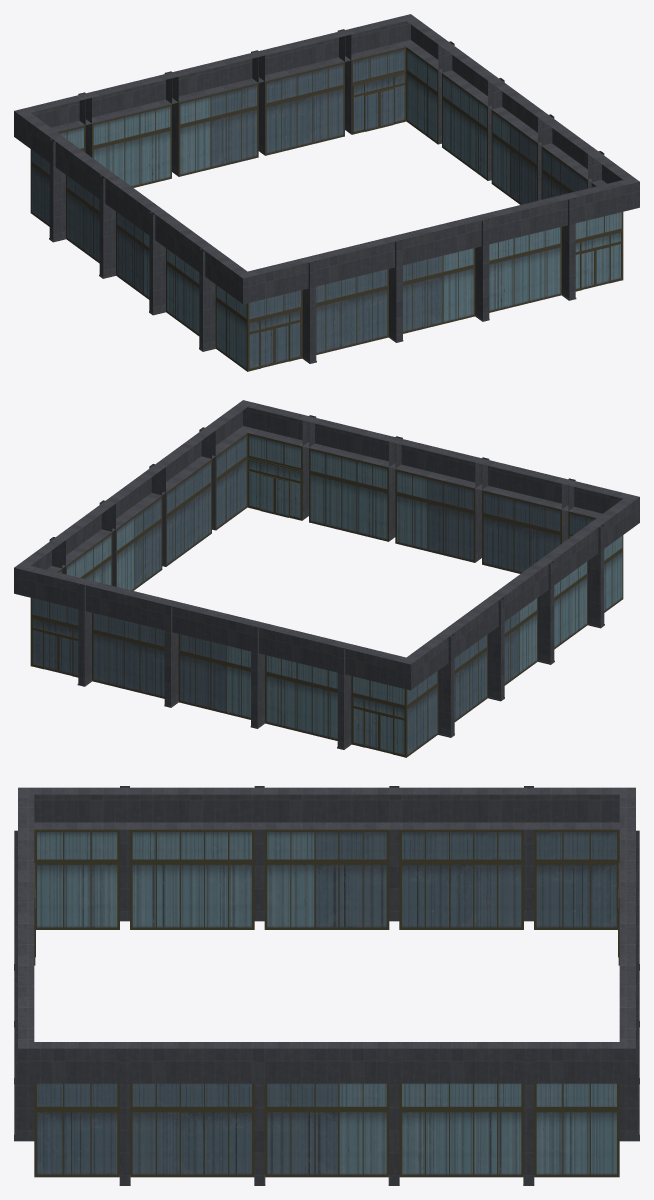
Rendered from jctBld24_A_btm_low.fbx.
3 views of the same model, one above another, from view 1: azimuth 30°, elevation 25°; view 2: azimuth 150°, elevation 25°; view 3: azimuth 270°, elevation 25° (orthographic). The views are drawn at different scales.
Visible parts, largest first — view 1: jctBld24_A_btm_low; view 2: jctBld24_A_btm_low; view 3: jctBld24_A_btm_low.
Part boxes in pixels (left/top/right/bottom): jctBld24_A_btm_low: left=14, top=14, right=639, bottom=371; jctBld24_A_btm_low: left=14, top=400, right=639, bottom=757; jctBld24_A_btm_low: left=14, top=786, right=639, bottom=1185.
Size of the model in its own units: 2514 by 600 by 2514.
